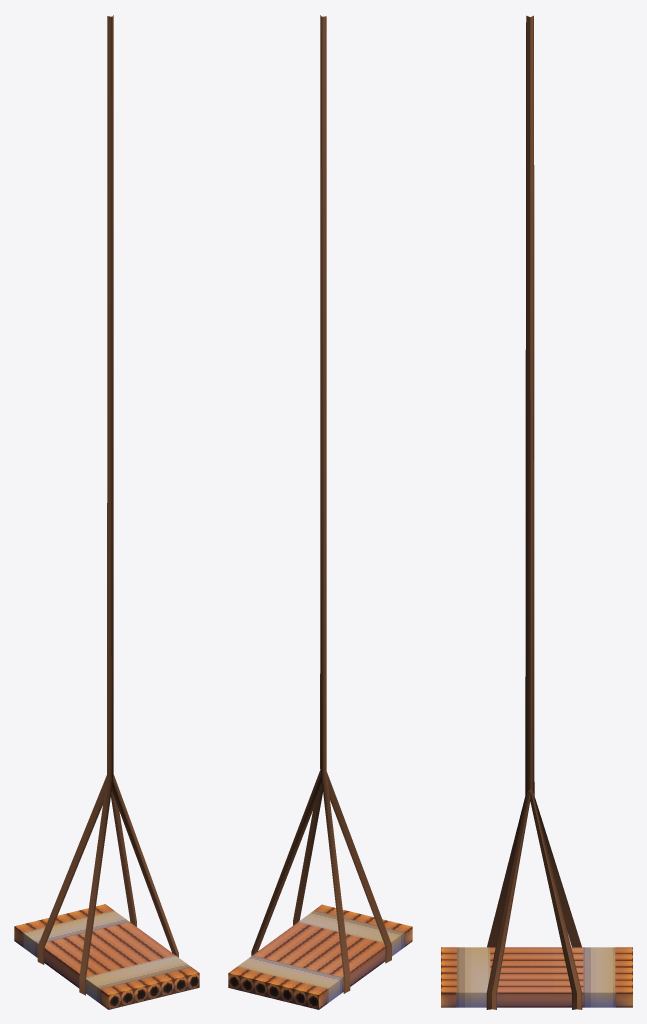
File: Cliff_Hanging_Platform_S.glb
3 views of the same model, side by side, from view 1: azimuth 30°, elevation 25°; view 2: azimuth 150°, elevation 25°; view 3: azimuth 270°, elevation 25° (orthographic). The views are drawn at different scales.
Parts seen in each view (by area): view 1: Cliff_Hanging_Platform_S; view 2: Cliff_Hanging_Platform_S; view 3: Cliff_Hanging_Platform_S.
Part boxes in pixels (<box>): Cliff_Hanging_Platform_S: <box>14,15,199,1009</box>; Cliff_Hanging_Platform_S: <box>228,15,412,1009</box>; Cliff_Hanging_Platform_S: <box>441,15,632,1009</box>.
Size of the model in its own units: 1.22 by 11.18 by 2.
Materials: 1 (1 with a texture image).
